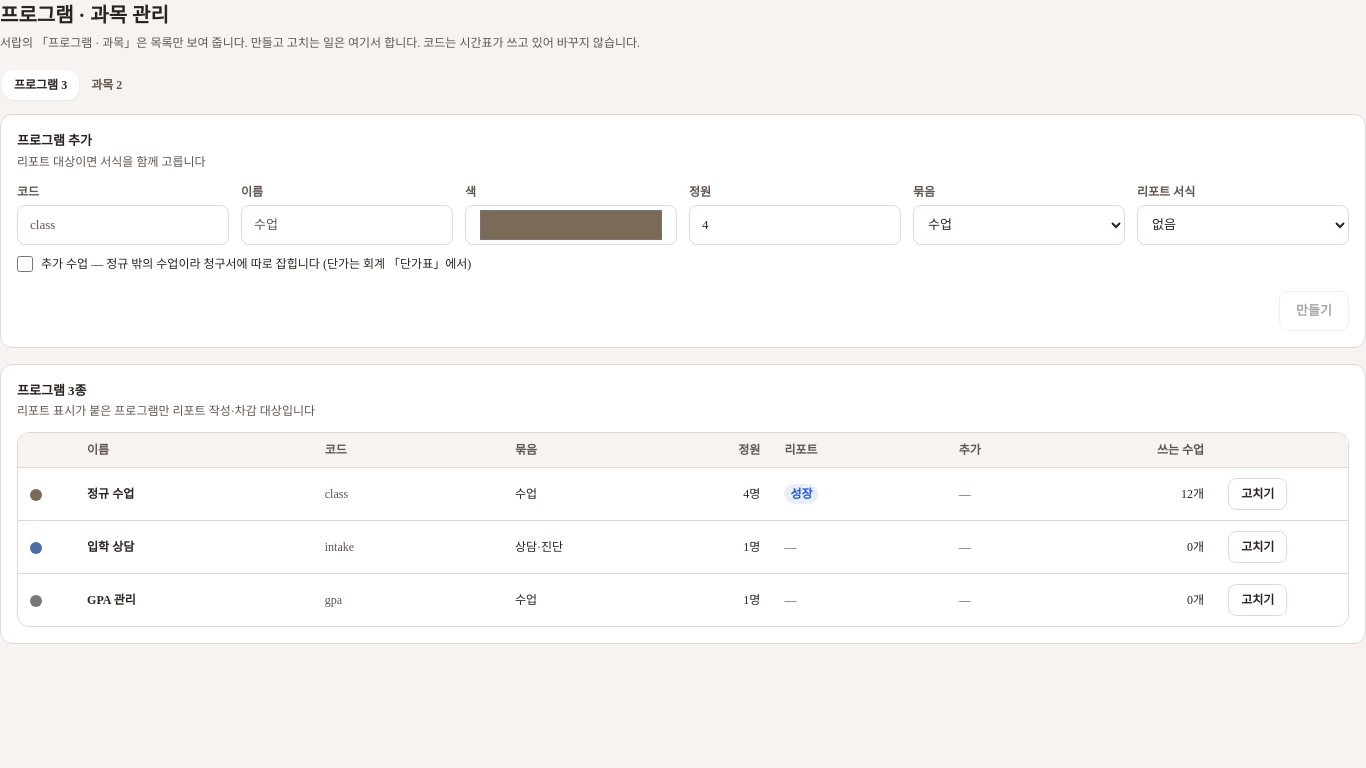
Test: 고치기는 코드를 건드리지 않는다 — 왜 못 바꾸는지 숫자로 말한다
Expected: the text "정규 수업" is shown, [87,487,134,501]
Step 1. Click the button "고치기" in the row of "정규 수업" → point(1258, 494), box [1228,478,1287,510]
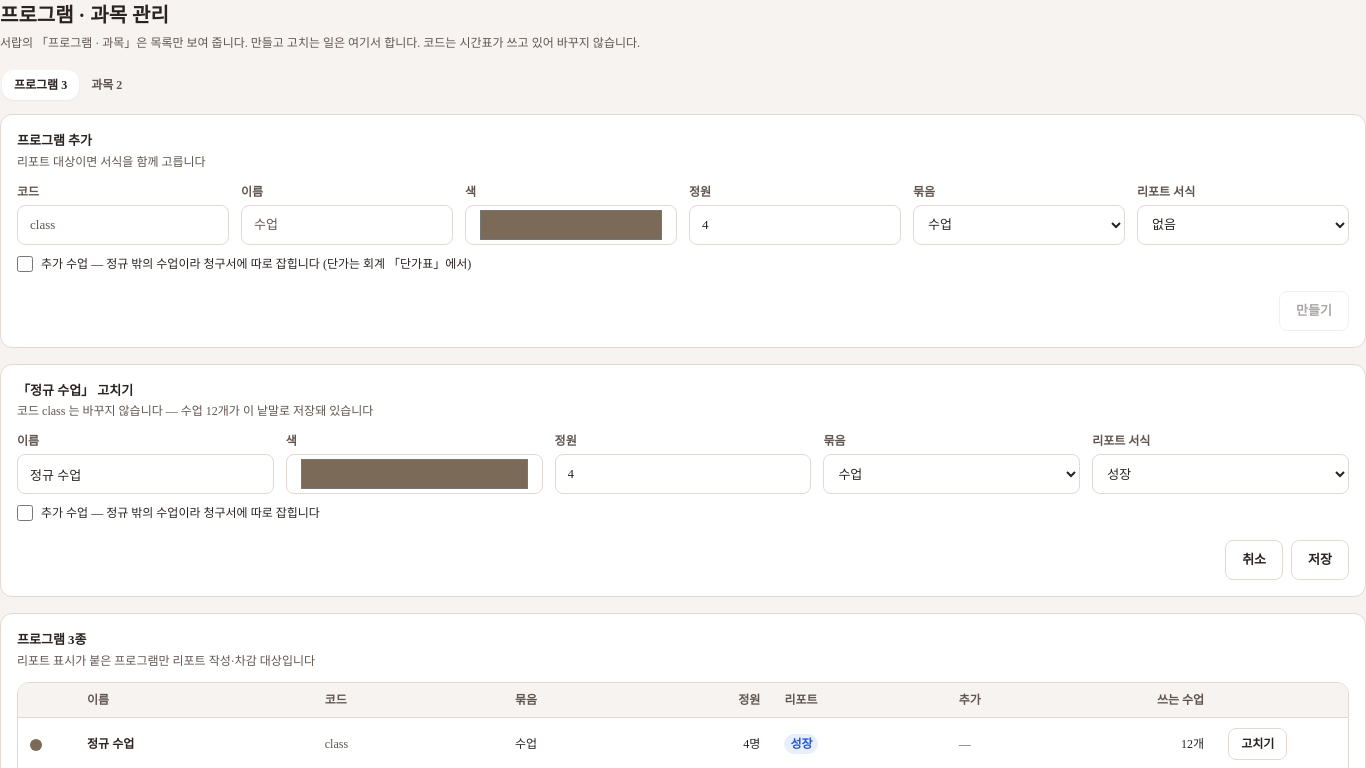
Expected: the field with id "e-name" is shown, [17,454,274,494]
Expected: the text "코드 class 는 바꾸지 않습니다" is shown, [17,404,373,418]
Expected: the text "수업 12개가 이 낱말로 저장돼 있습니다" is shown, [17,404,373,418]
